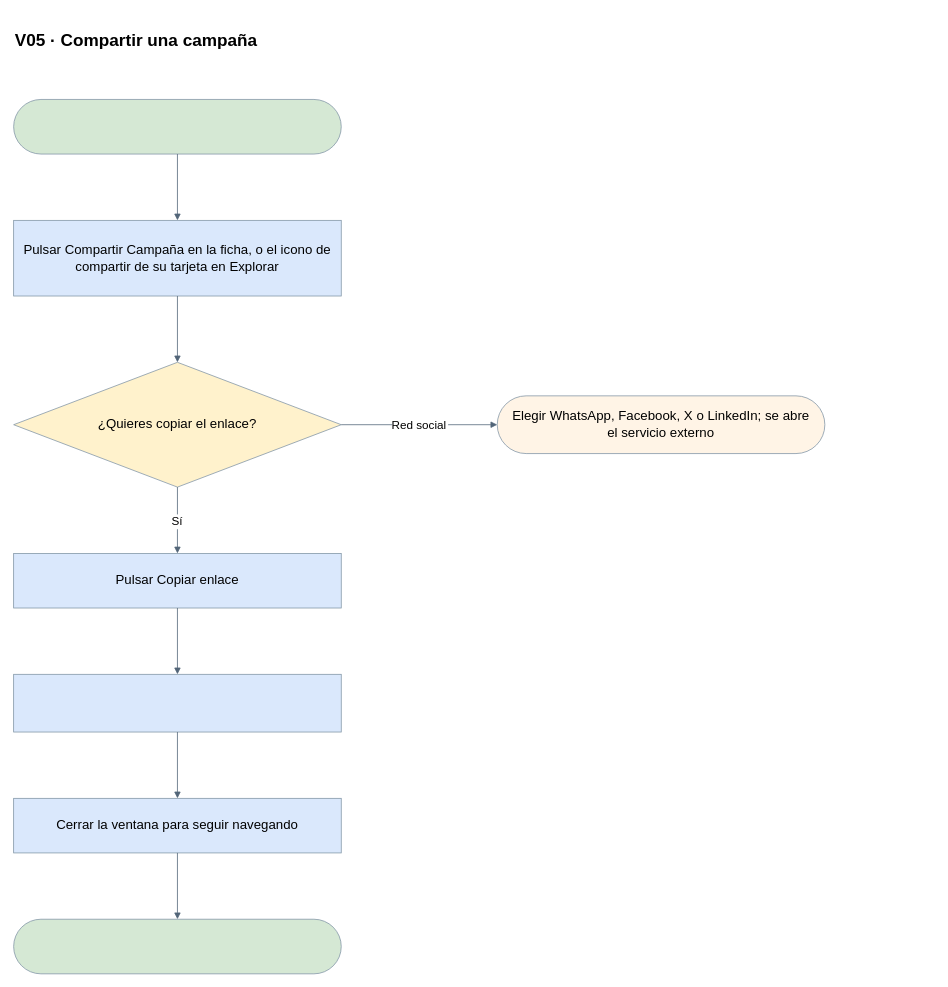
The diagram is 948 pixels wide and 987 high, and some of its shapes have lost their labels. Here are the shapes that lost their labels. From the top down, the centre of each, then its label:
At point 177,126: "Inicio".
At point 177,703: "Comprobar la confirmación de copia y pegarlo donde corresponda".
At point 177,946: "Fin".
